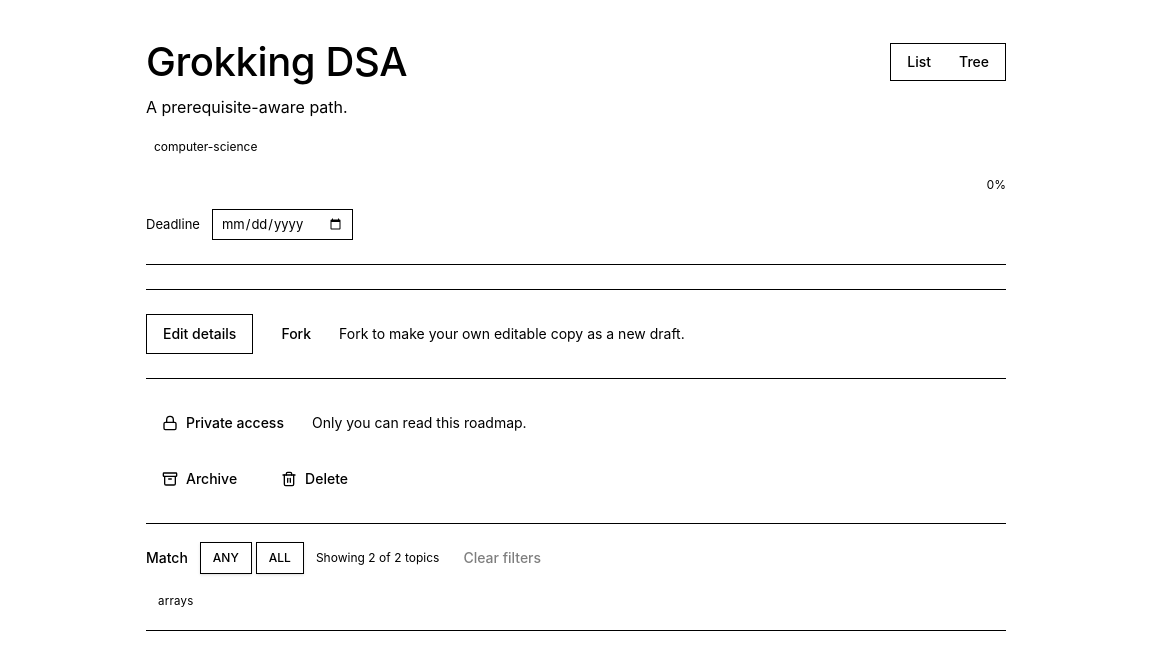
Scenario: RoadmapView web-only lifecycle › blocks delete when the roadmap has followers and steers to archive
Click the button "Delete".
click(315, 479)  # box [265,459,364,499]
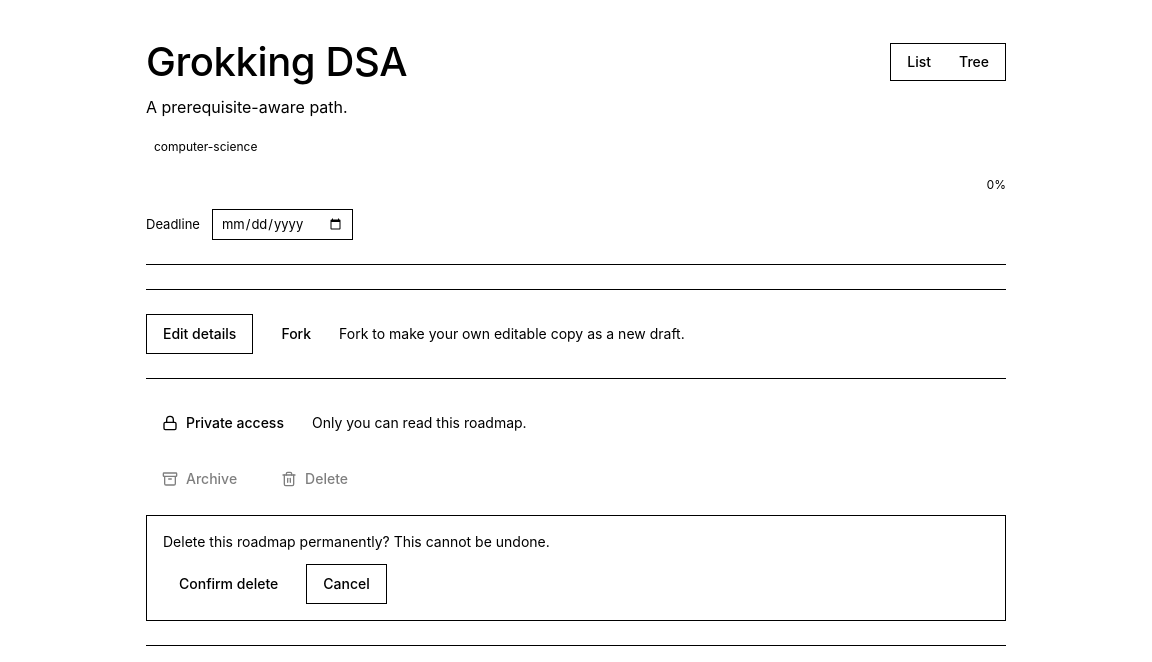
Click the button "Confirm delete".
click(229, 584)  # box [163,564,294,604]
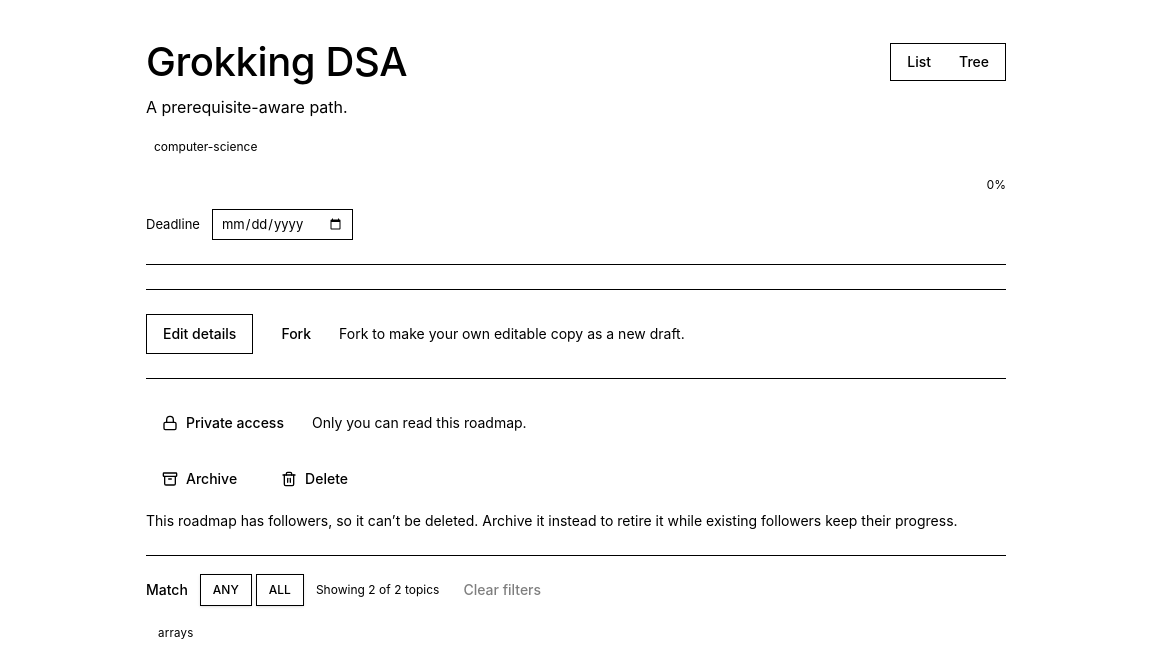
Expected: the button "Archive" is shown, [146,459,253,499]
Expected: the text "Archive it instead" is shown, [146,512,958,529]
